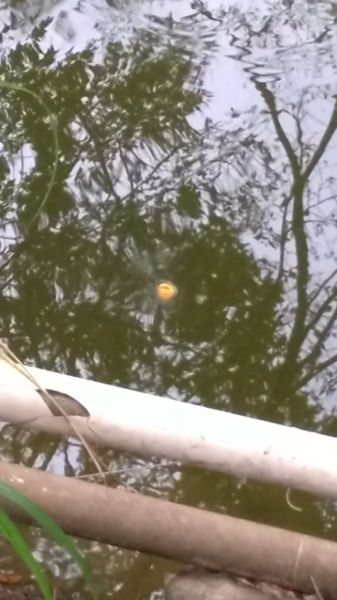eggs: (150, 279, 181, 305)
